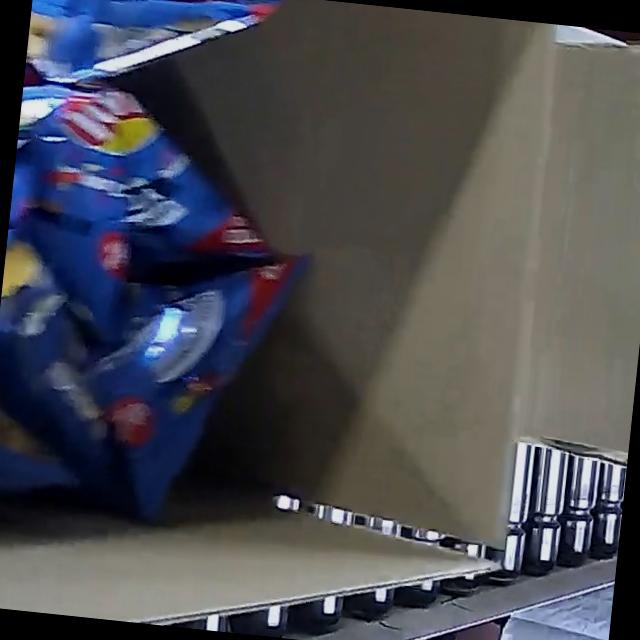paprika: (0, 0, 336, 565)
